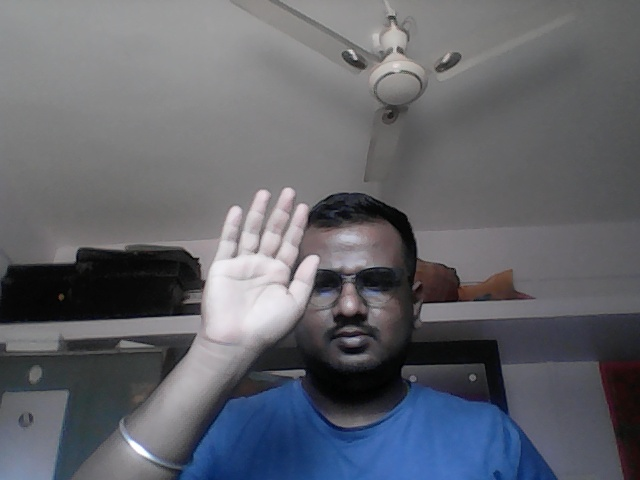Hello: (199, 185, 322, 354)
